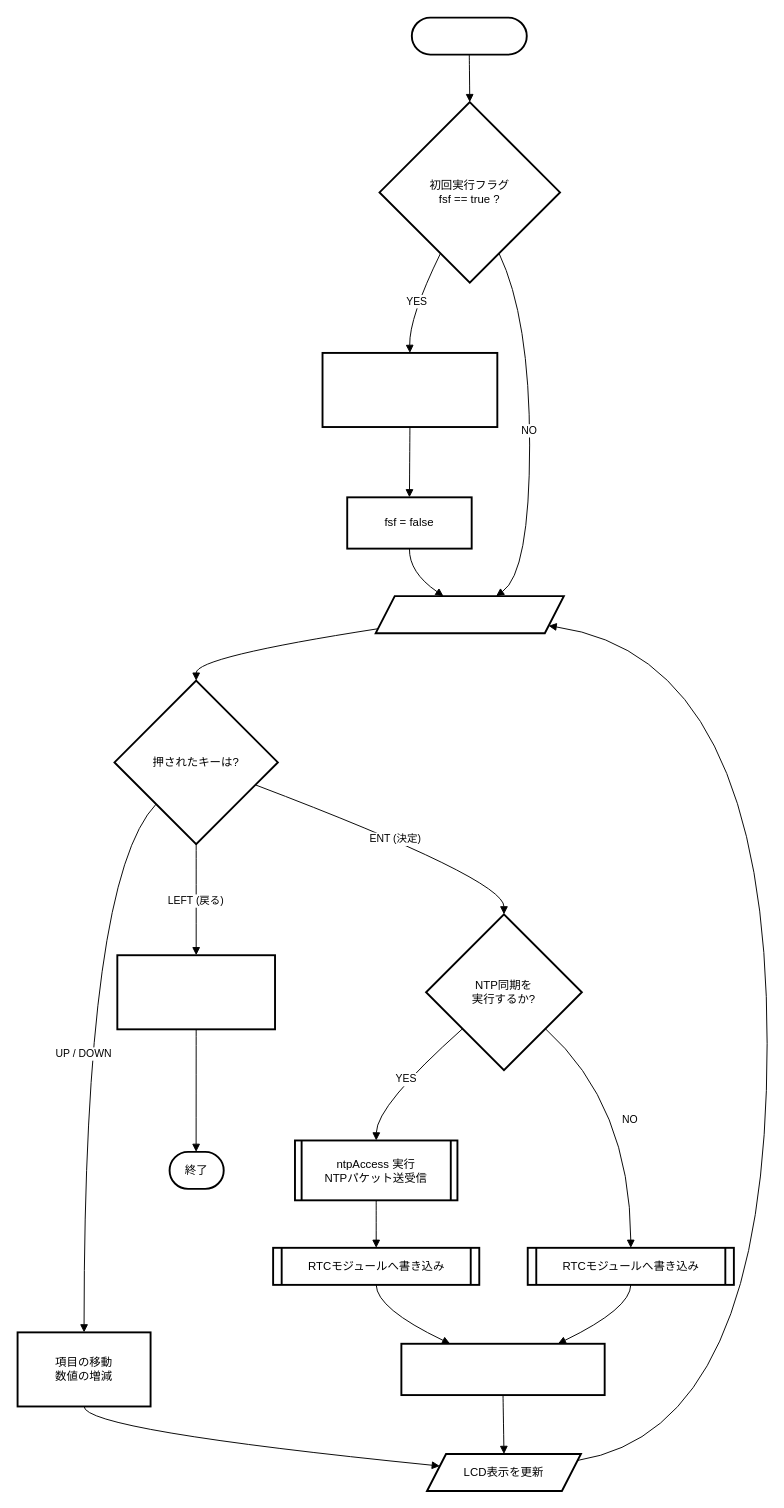
Image size: 784x1508. Some labels were removed from this diagram. The shapes that lost their labels are listed below. From the top down, each one's box as (x1, y1, x2, y2) in pixels, then its label:
(410, 16, 527, 55): 開始: opeRTC
(321, 352, 498, 428): LCD表示の初期化 RTC読み込み
(374, 595, 564, 634): 十字キー入力を監視
(116, 954, 276, 1030): モード終了 cmode = CMND
(400, 1342, 605, 1396): LCDに 'OK DONE' 表示
